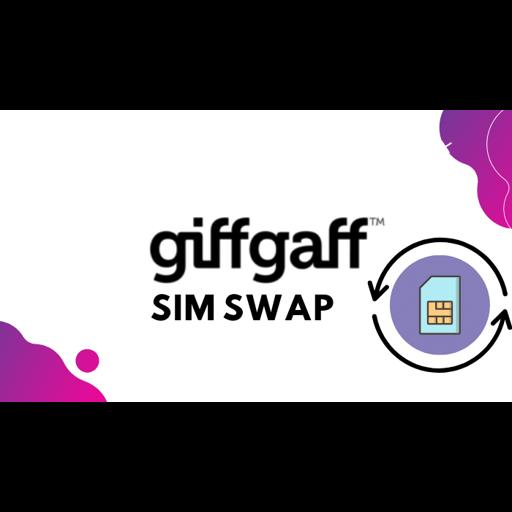Giffgaff: (0, 110, 512, 402)
